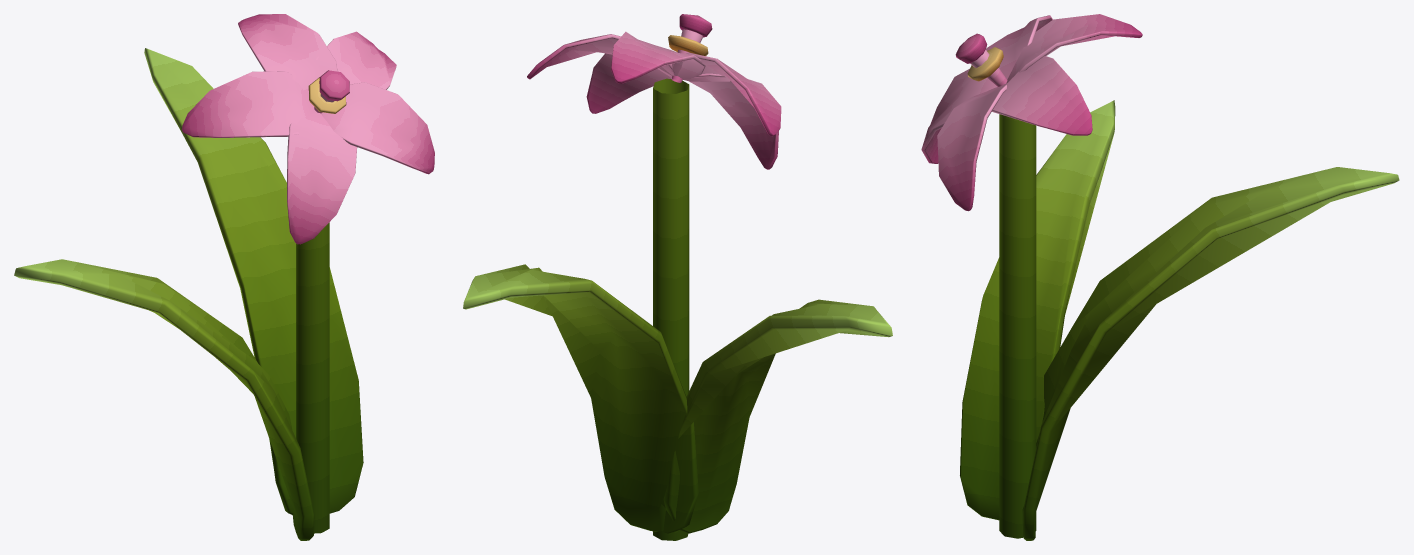
The model's file is SM_Kokio.fbx.
The picture shows the model from 3 angles, left to right: view 1: azimuth 30°, elevation 25°; view 2: azimuth 150°, elevation 25°; view 3: azimuth 270°, elevation 25°; orthographic projection. The views are drawn at different scales.
Parts seen in each view (by area): view 1: SM_Kokio; view 2: SM_Kokio; view 3: SM_Kokio.
Part boxes in pixels (left/top/right/bottom): SM_Kokio: left=14, top=14, right=434, bottom=540; SM_Kokio: left=463, top=14, right=892, bottom=540; SM_Kokio: left=921, top=14, right=1399, bottom=540.
Size of the model in its own units: 79.59 by 103 by 88.24.
Materials: 1 (1 with a texture image).
